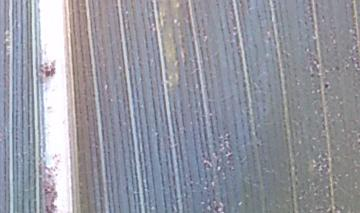tarspot: (321, 79, 332, 93)
